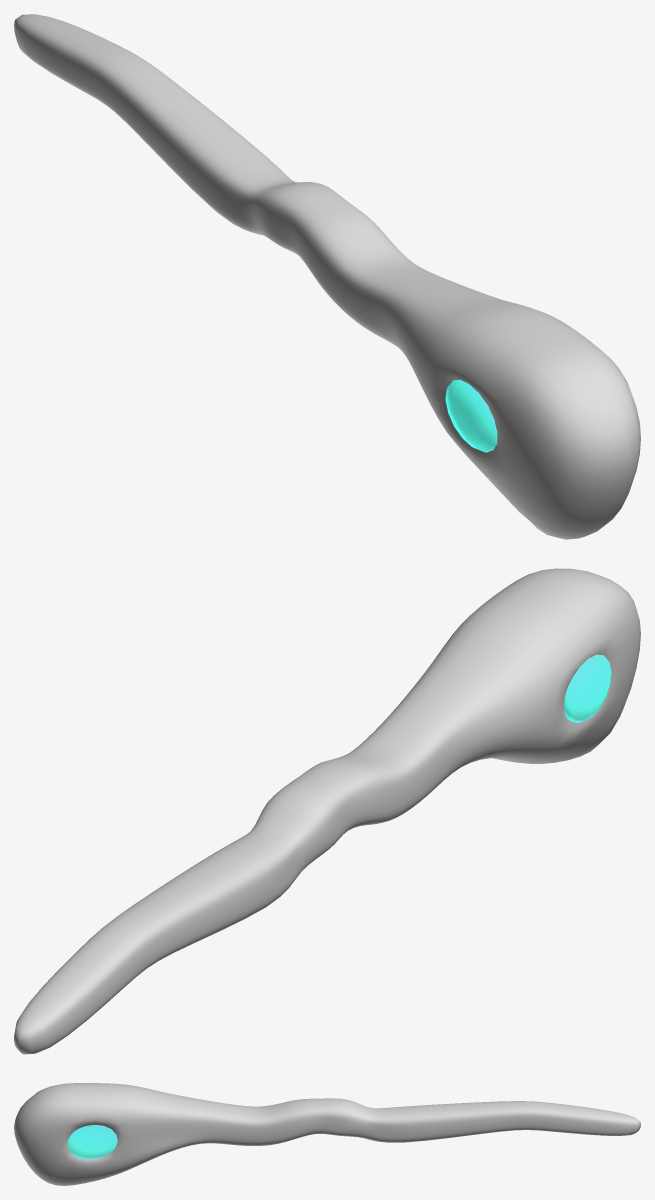
Rendered from staffrig.fbx.
The picture shows the model from 3 angles, top to bottom: view 1: azimuth 30°, elevation 25°; view 2: azimuth 150°, elevation 25°; view 3: azimuth 270°, elevation 25°; orthographic projection. The views are drawn at different scales.
Visible parts, largest first — view 1: Cube, Diamond; view 2: Cube, Diamond; view 3: Cube, Diamond.
Boxes of the visible parts, x1,y1,x2,y2 form: Cube: (14, 14, 640, 539); Diamond: (445, 379, 497, 452); Cube: (14, 568, 640, 1054); Diamond: (564, 654, 611, 722); Cube: (14, 1083, 640, 1185); Diamond: (67, 1125, 117, 1159).
Size of the model in its own units: 0.5849 by 0.7916 by 4.76.
